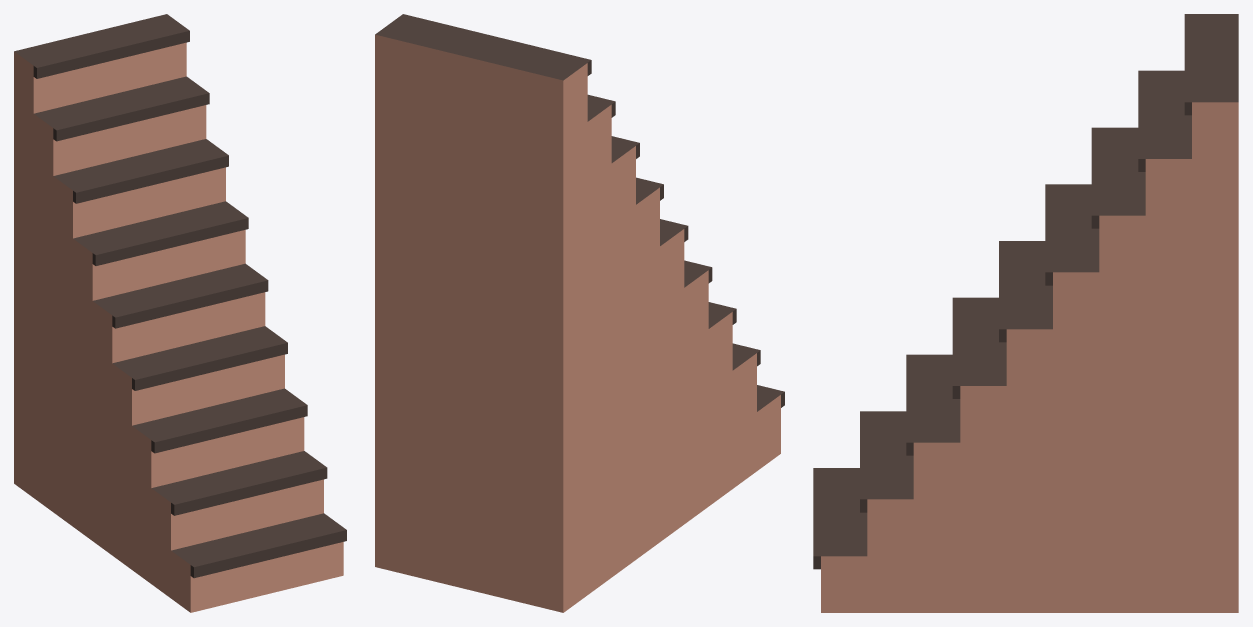
File: Stair.FBX
3 views of the same model, side by side, from view 1: azimuth 30°, elevation 25°; view 2: azimuth 150°, elevation 25°; view 3: azimuth 270°, elevation 25° (orthographic). The views are drawn at different scales.
Parts seen in each view (by area): view 1: Stair; view 2: Stair; view 3: Stair.
Boxes of the visible parts, <box> form: Stair: <box>14,14,346,612</box>; Stair: <box>375,14,784,612</box>; Stair: <box>813,14,1238,612</box>.
Size of the model in its own units: 100 by 270 by 204.
